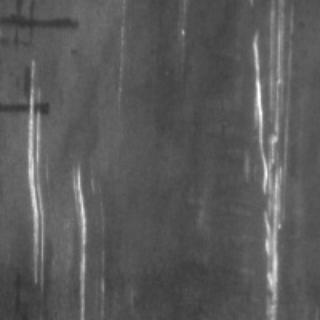inclusion: (0, 0, 81, 52), (0, 88, 52, 120)
scratches: (247, 2, 290, 314), (21, 80, 49, 290), (66, 159, 102, 315)
